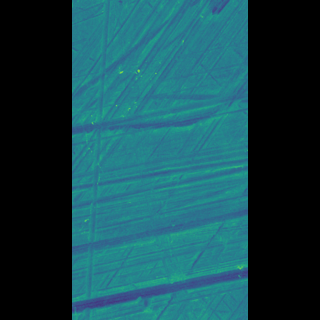Loch: (133, 0, 180, 320), (116, 0, 133, 320)
